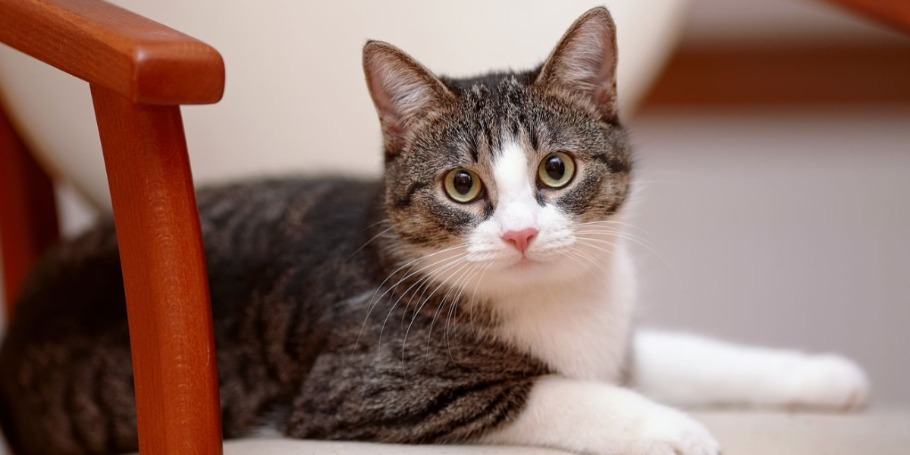cat: (17, 10, 680, 443)
